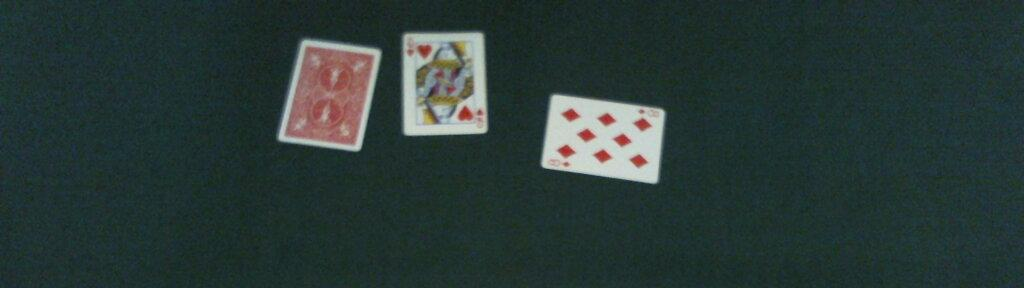back: (278, 38, 381, 151)
eight: (538, 92, 665, 185)
queen: (400, 32, 488, 135)
